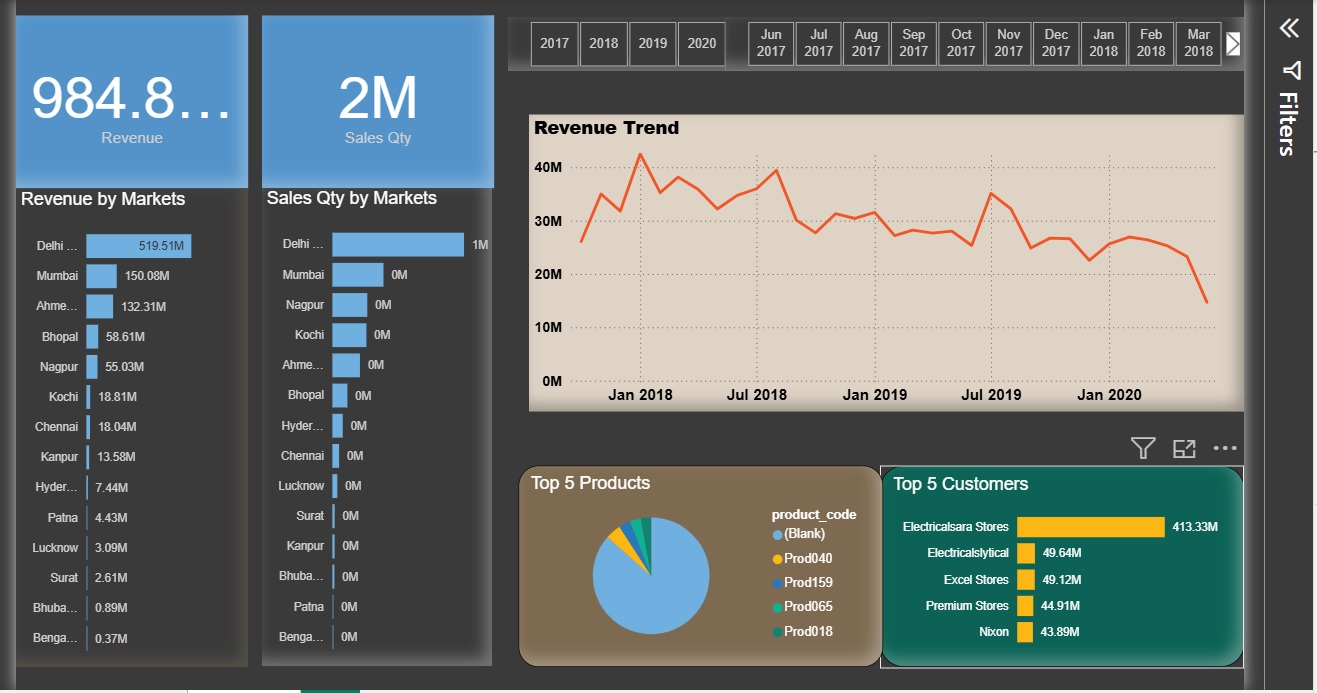

Layout of this report page (visuals, bound fields, positions):
{"tool":"powerbi","page":{"name":"Page 1","canvas":[1280,720],"ordinal":0},"visuals":[{"type":"card","fields":{"Values":["BaseMeasures.Revenue"]},"box":[0,17.5,241.8,179.7],"z":0},{"type":"card","fields":{"Values":["BaseMeasures.Sales Qty"]},"box":[256.1,17.5,241.8,179.7],"z":1000},{"type":"barChart","title":"Revenue by Markets","fields":{"Y":["BaseMeasures.Revenue"],"Category":["sales markets.markets_name"]},"box":[0,198.8,241.8,497.9],"z":2000},{"type":"barChart","title":"Sales Qty by Markets","fields":{"Y":["BaseMeasures.Sales Qty"],"Category":["sales markets.markets_name"]},"box":[256.1,197.2,240.2,497.9],"z":3000},{"type":"slicer","fields":{"Values":["sales date.year"]},"box":[512,18.5,250.9,56.5],"z":4000},{"type":"slicer","fields":{"Values":["sales date.cy_date"]},"box":[739.6,19.1,540.8,55.7],"z":5000},{"type":"barChart","title":"Top 5 Customers","fields":{"Y":["BaseMeasures.Revenue"],"Category":["sales customers.custmer_name"]},"box":[900.3,486.7,380.2,210],"z":6000},{"type":"pieChart","title":"Top 5 Products","fields":{"Category":["sales products.product_code"],"Y":["BaseMeasures.Revenue"]},"box":[523.3,486.7,380.2,210],"z":7000},{"type":"lineChart","title":"Revenue Trend","fields":{"Category":["sales date.cy_date"],"Y":["BaseMeasures.Revenue"]},"box":[534.4,120.9,745,309],"z":8000}]}

Visuals, with their boxes on the page's 1280x720 design canvas (x1, y1, x2, y2). These are canvas units, not pixel positions in the 1317x693 screenshot, which may show the page scaled, cropped or inside an application window:
card - BaseMeasures.Revenue: Rect(0, 18, 242, 197)
card - BaseMeasures.Sales Qty: Rect(256, 18, 498, 197)
"Revenue by Markets" barChart: Rect(0, 199, 242, 697)
"Sales Qty by Markets" barChart: Rect(256, 197, 496, 695)
slicer - sales date.year: Rect(512, 18, 763, 75)
slicer - sales date.cy_date: Rect(740, 19, 1280, 75)
"Top 5 Customers" barChart: Rect(900, 487, 1280, 697)
"Top 5 Products" pieChart: Rect(523, 487, 904, 697)
"Revenue Trend" lineChart: Rect(534, 121, 1279, 430)
